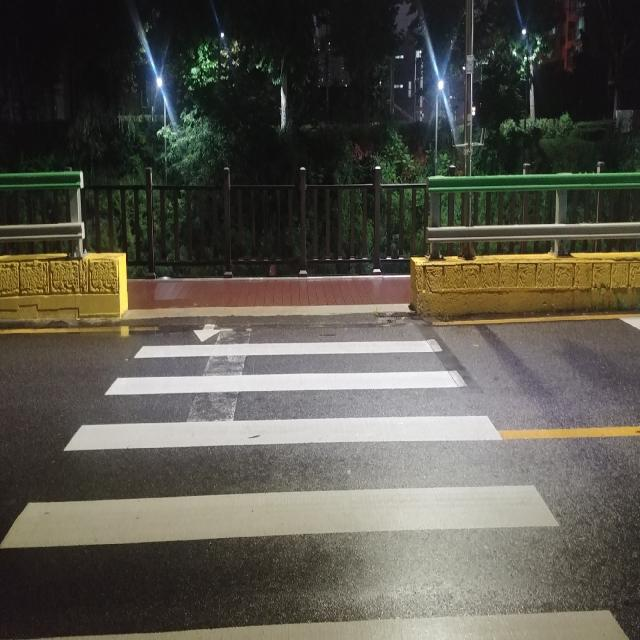횡단보도: (0, 321, 633, 640)
